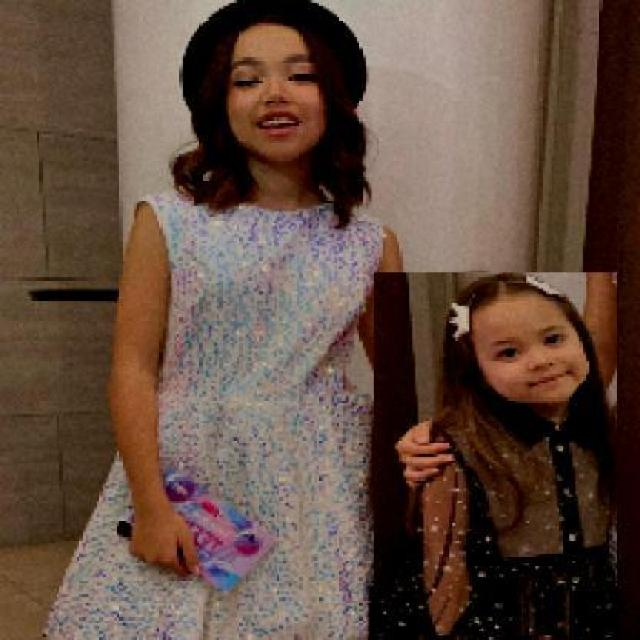child: (372, 272, 617, 637)
